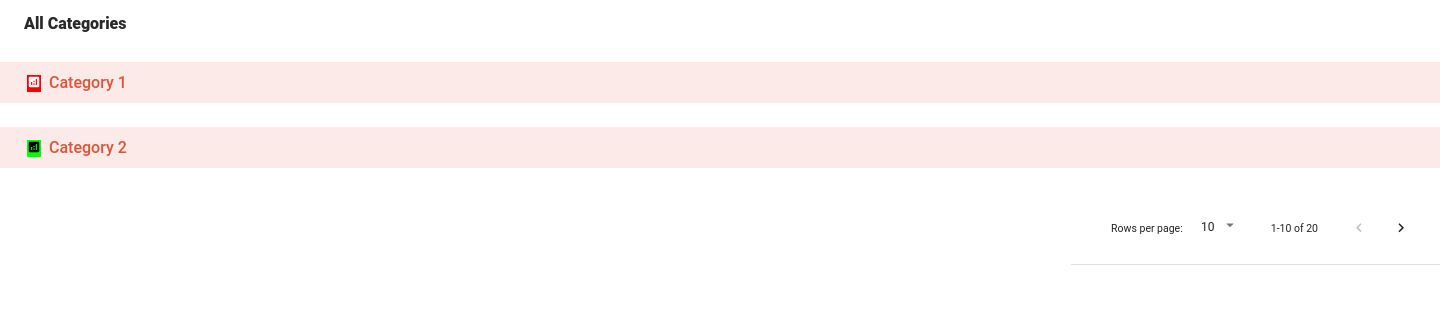
Test case: AppsByCategory › shows apps when a category is toggled
The width and height of the screenshot is (1440, 330).
# Click on the first category
Click the text "Category 1" at (88, 83), box [49,71,127,95]
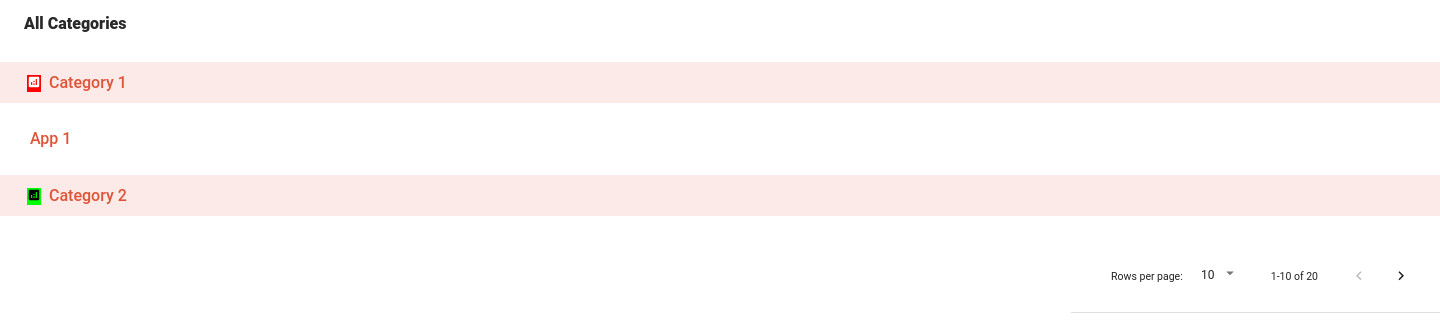
Check: the text "App 1" is shown, box [30,127,71,151]
